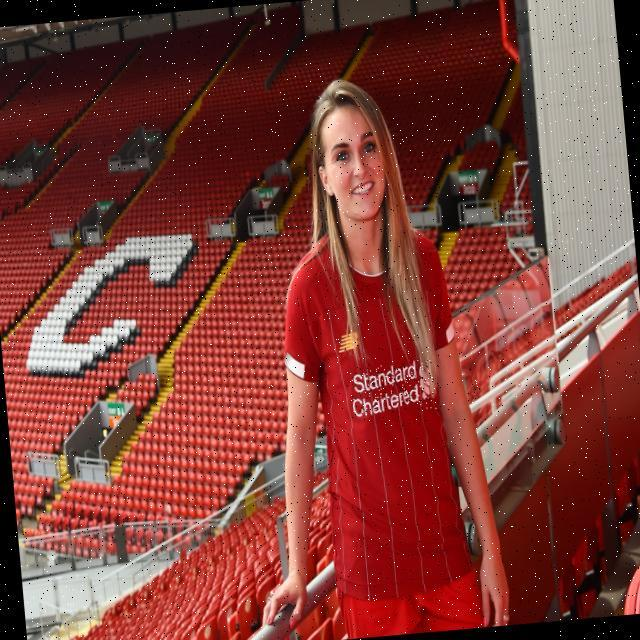Standard Chartered: (348, 359, 436, 416)
